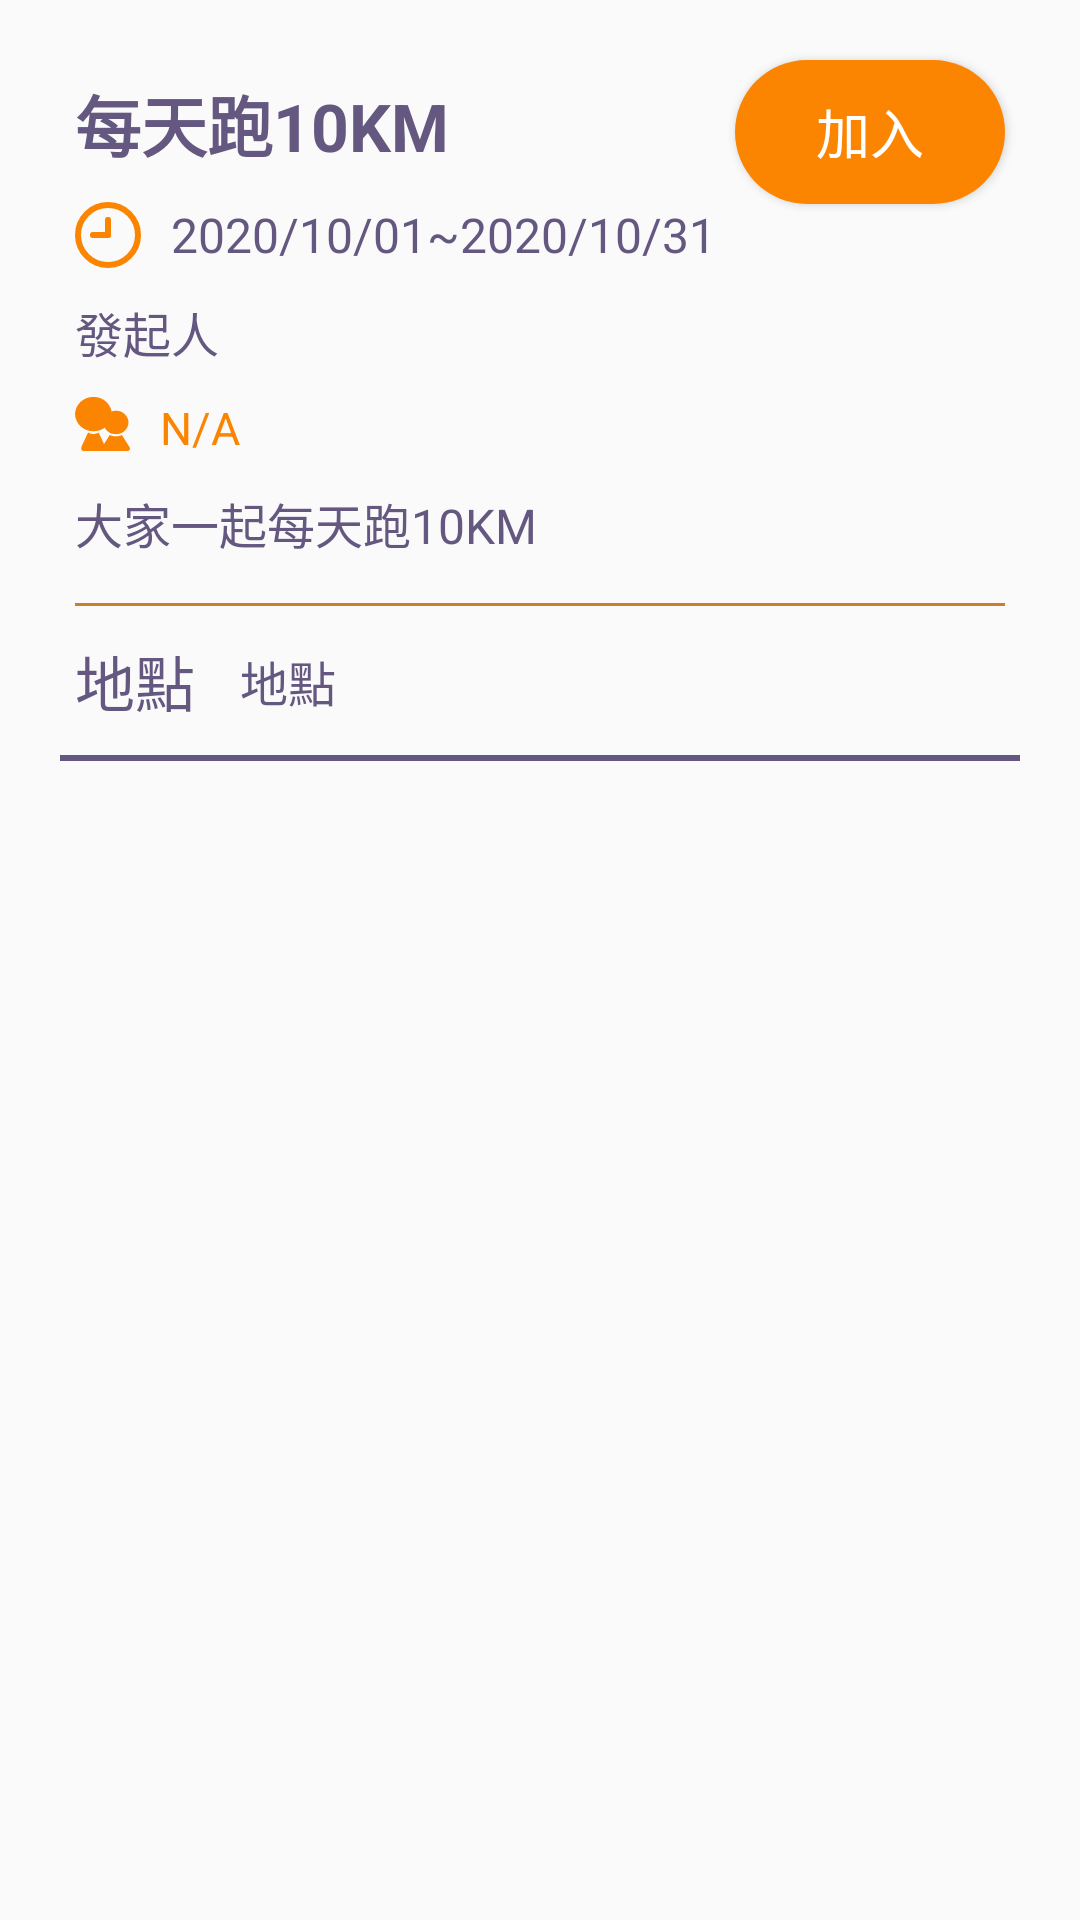

Locate icon controls on the screen. Image size 1080 × 1920, boxes as box(x1, y1, x2, y2).
Time: box(75, 202, 141, 268)
參加人數: box(75, 397, 130, 451)
